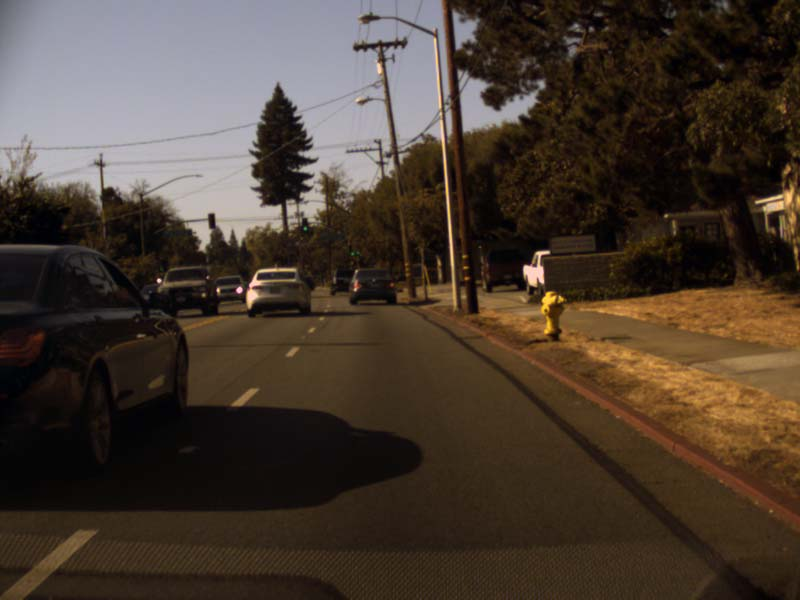Green: (301, 218, 308, 231), (349, 247, 355, 257), (355, 249, 360, 255)
